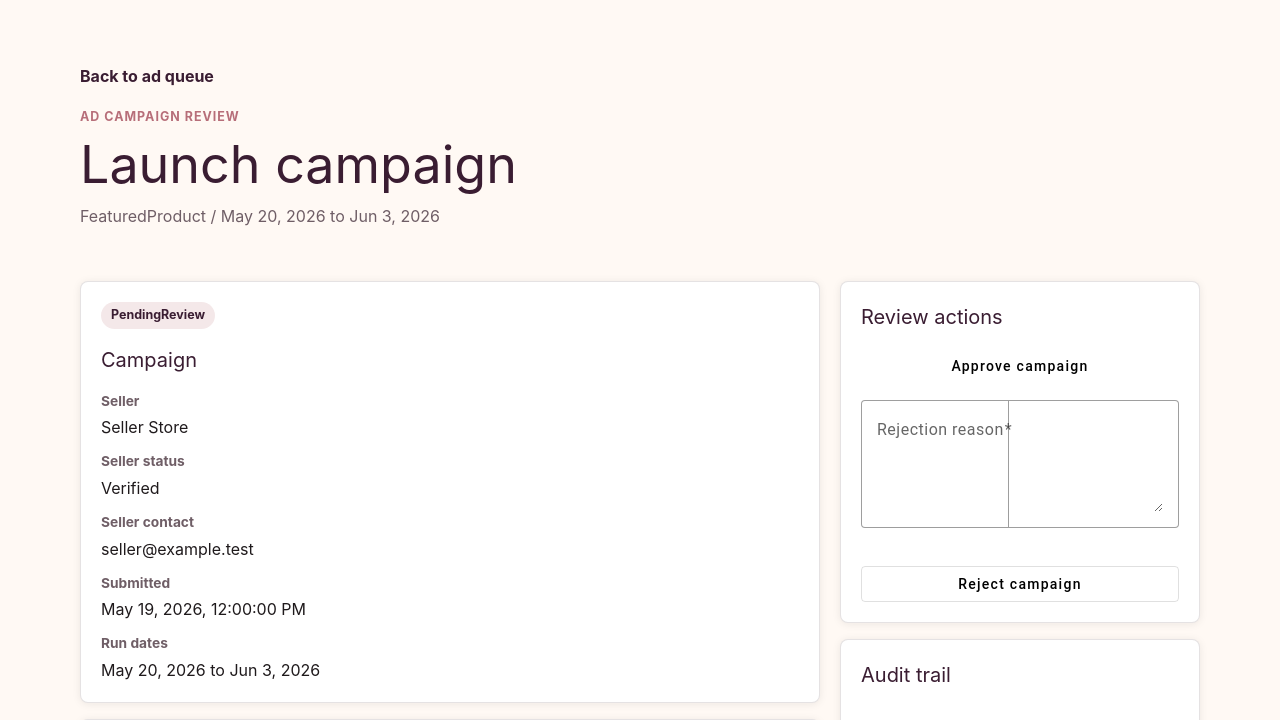
Test: AdminAdCampaignDetailPageComponent › rejects a campaign when a reason is provided
The image size is (1280, 720).
Type "Product mismatch." into the text box named "reason" at {"x": 1020, "y": 464}, box left=877, top=416, right=1163, bottom=512
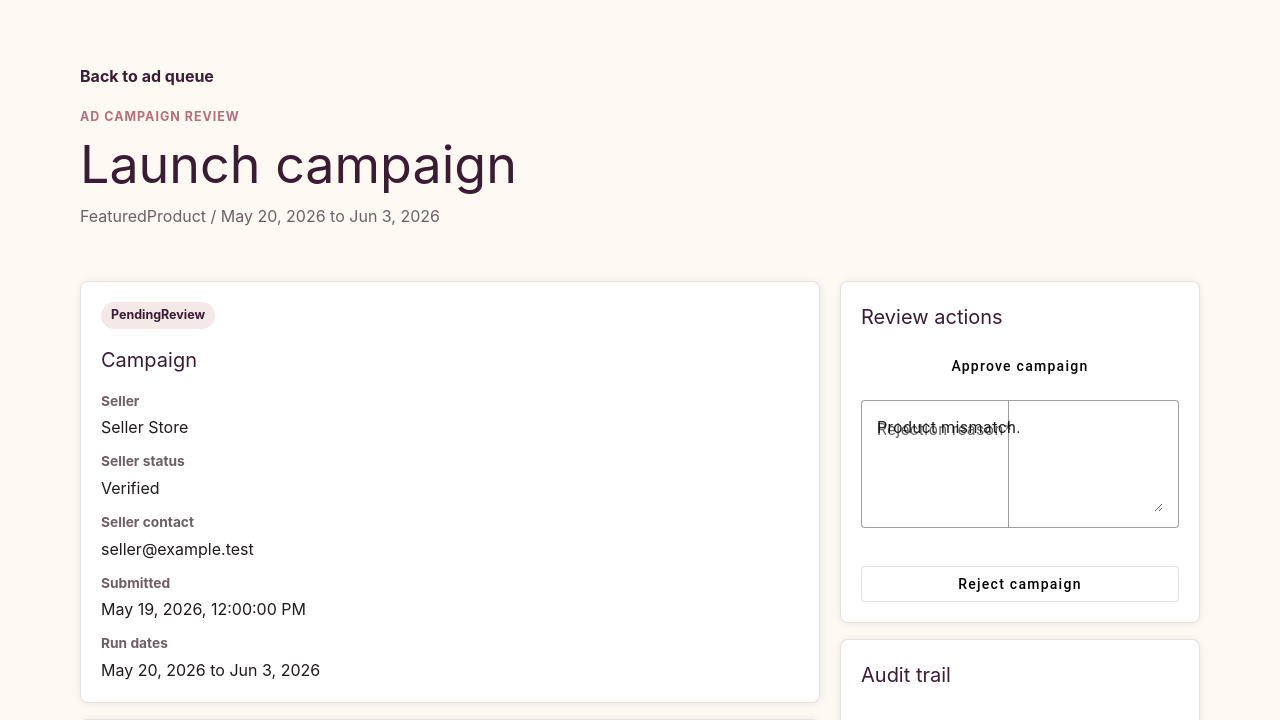
Submit the form, box left=861, top=400, right=1179, bottom=602
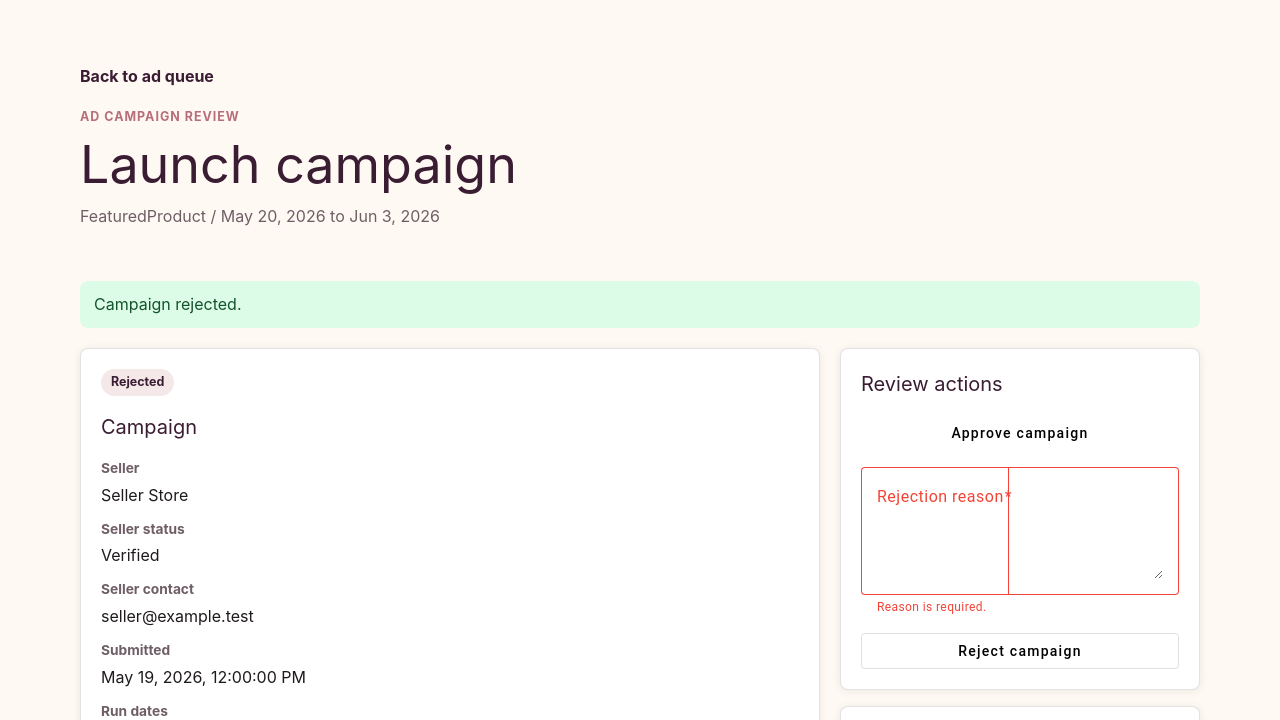
Check: the text "Campaign rejected." is shown, box left=80, top=281, right=1200, bottom=328
